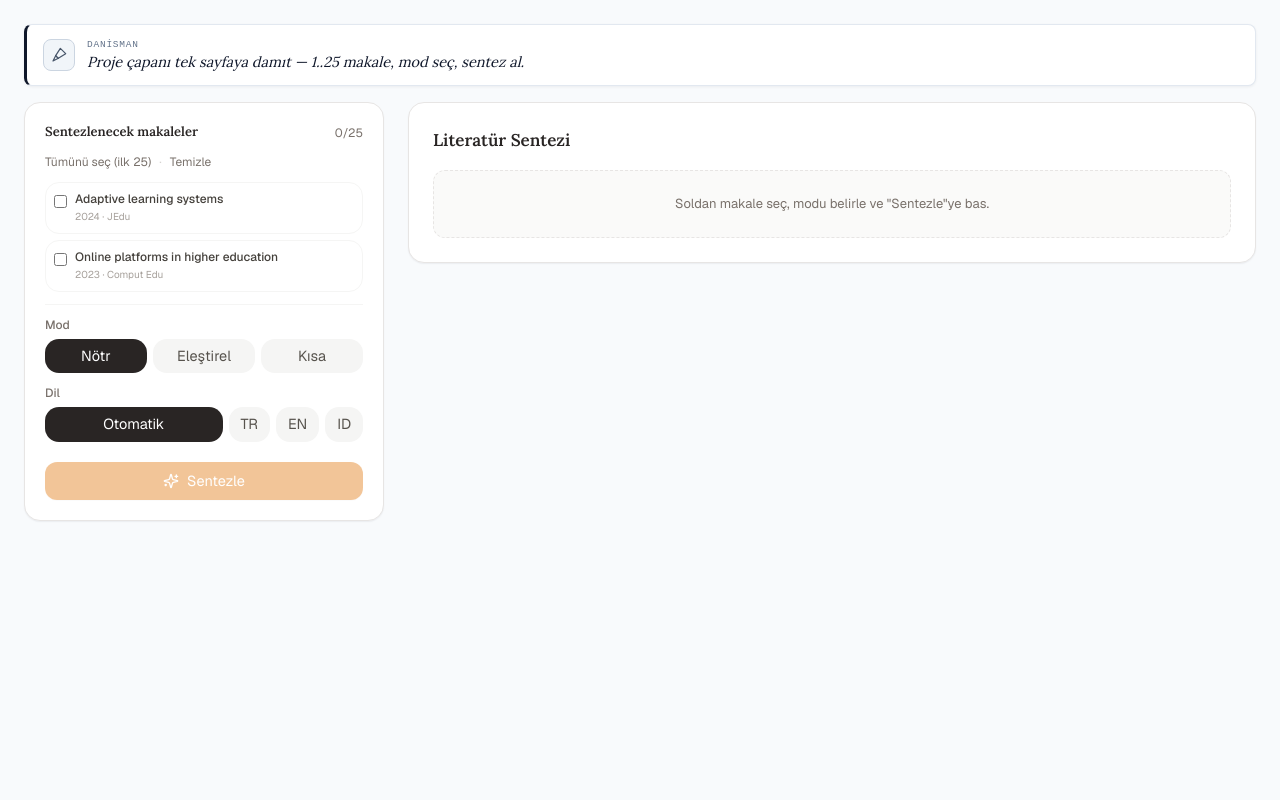
Test case: LiteratureSummaryPage › sentez sonucu → synthesis_text + faithfulness badges + references render
The image size is (1280, 800).
Click the checkbox named "Adaptive learning systems seç".
click(60, 201)  # box x1=54 y1=195 x2=67 y2=208
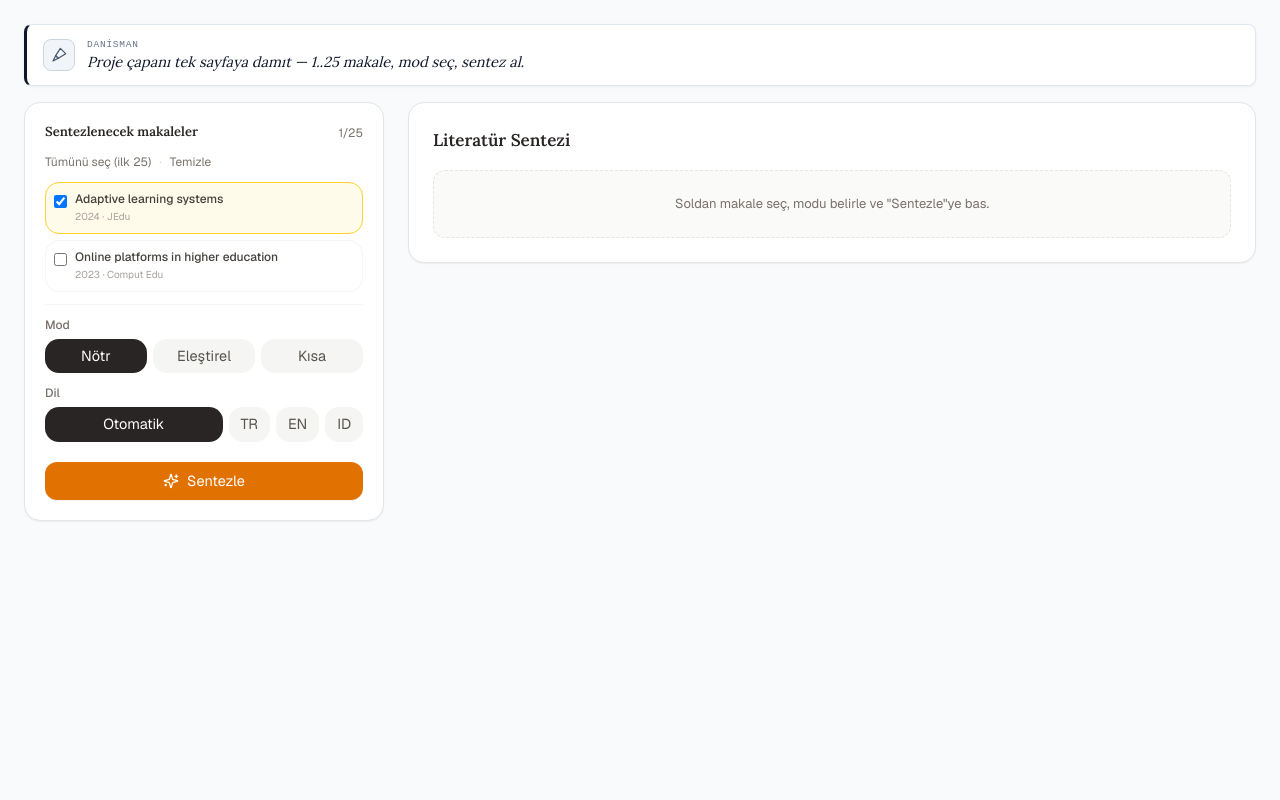
Click the button "Sentezle".
click(204, 481)  # box x1=45 y1=462 x2=363 y2=500
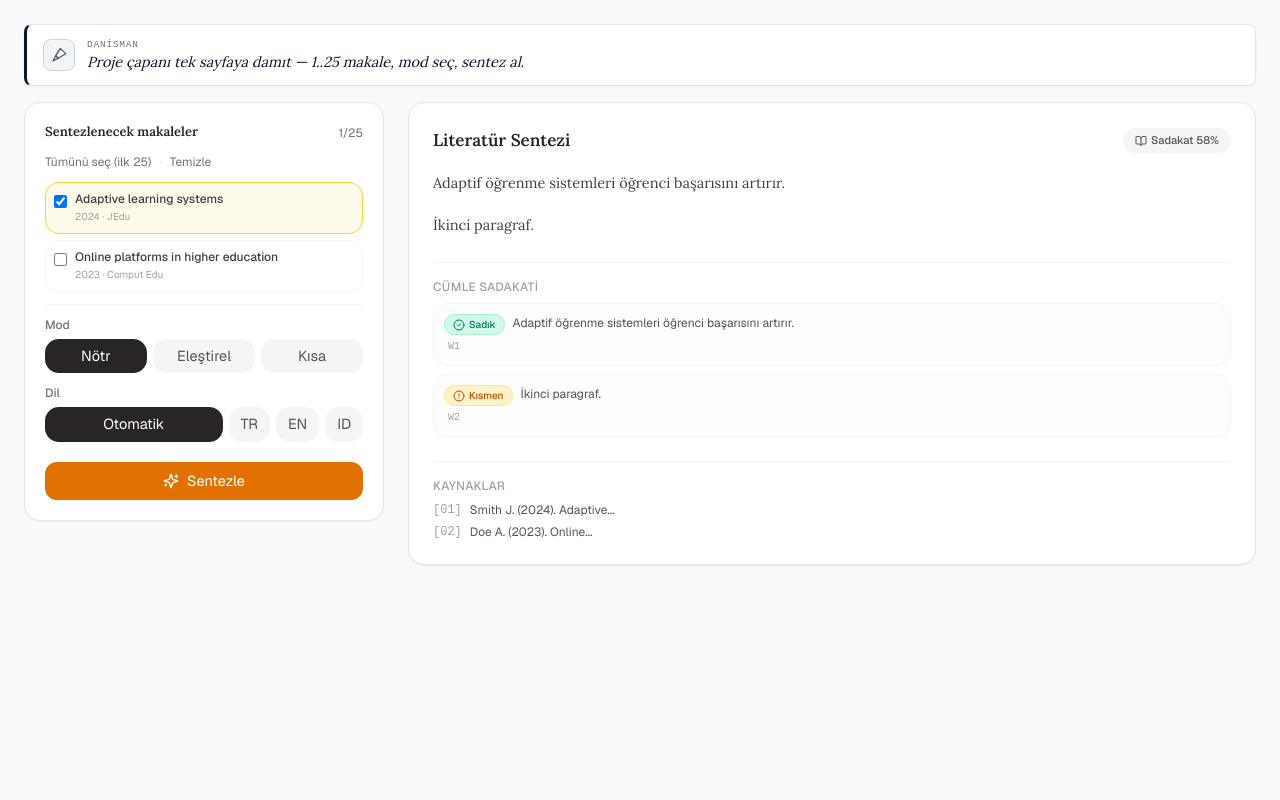
Expected: the text "Sadakat 58%" is shown, x1=1123 y1=128 x2=1231 y2=153
Expected: the number of list items with test id "synth-sentence" is 2, x1=433 y1=303 x2=1231 y2=366; x1=433 y1=374 x2=1231 y2=437
Expected: the text "Smith J. (2024). Adaptive..." is shown, x1=470 y1=502 x2=615 y2=518
